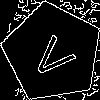V: (27, 27, 84, 84)
